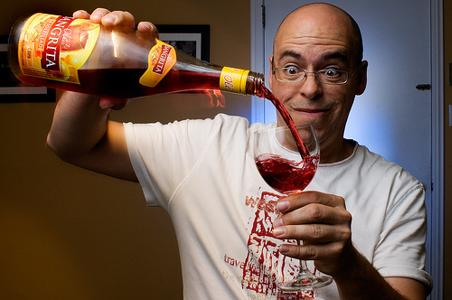person: (47, 3, 436, 299)
